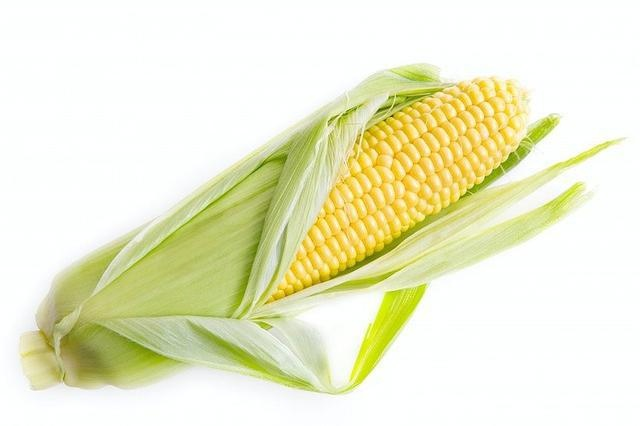corn: (244, 80, 527, 308)
